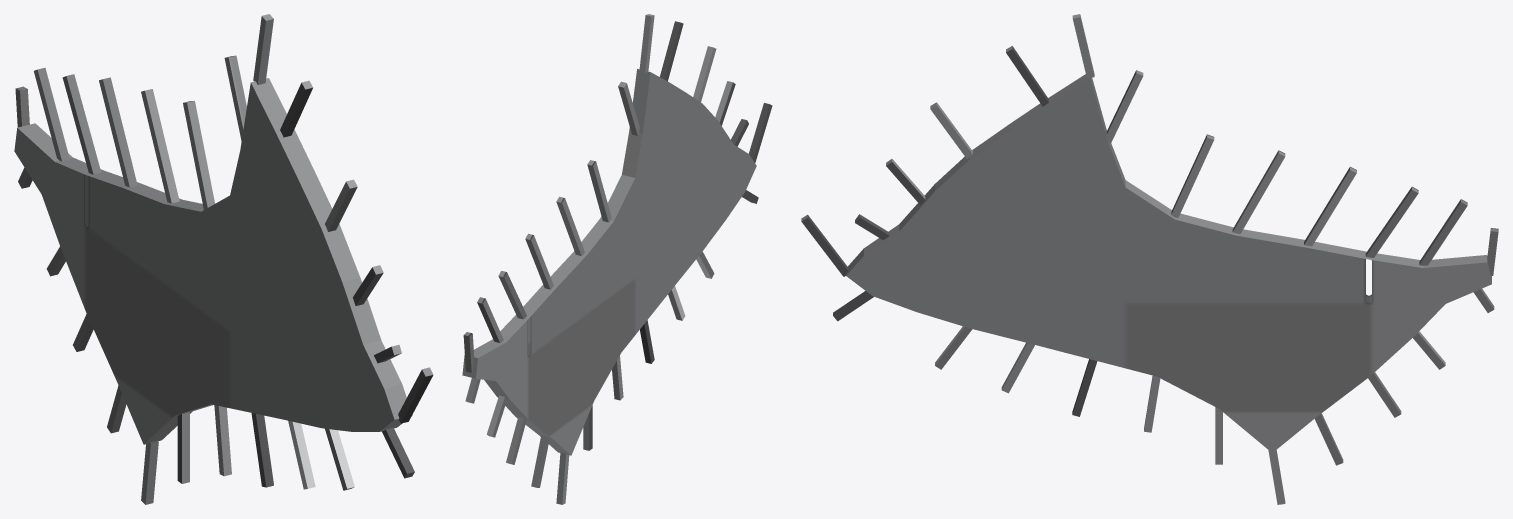
3 views of the same model, side by side, from view 1: azimuth 30°, elevation 25°; view 2: azimuth 150°, elevation 25°; view 3: azimuth 270°, elevation 25° (orthographic). The views are drawn at different scales.
Size of the model in its own units: 0.037 by 1.11 by 1.44.
